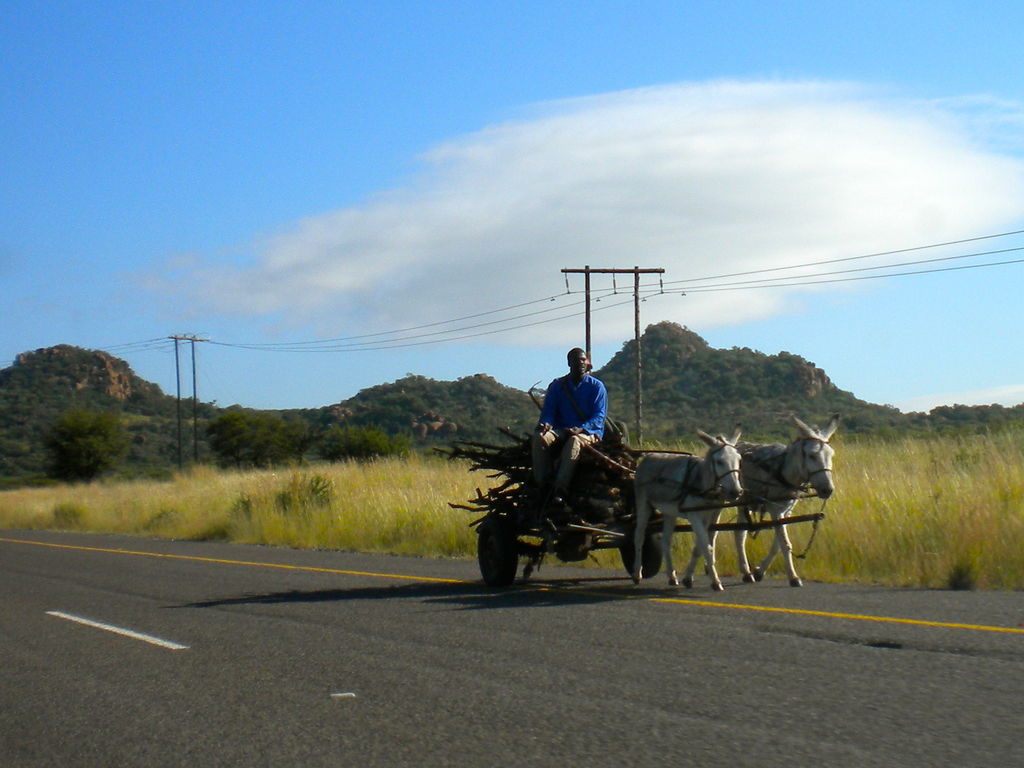Person: (529, 345, 608, 511)
